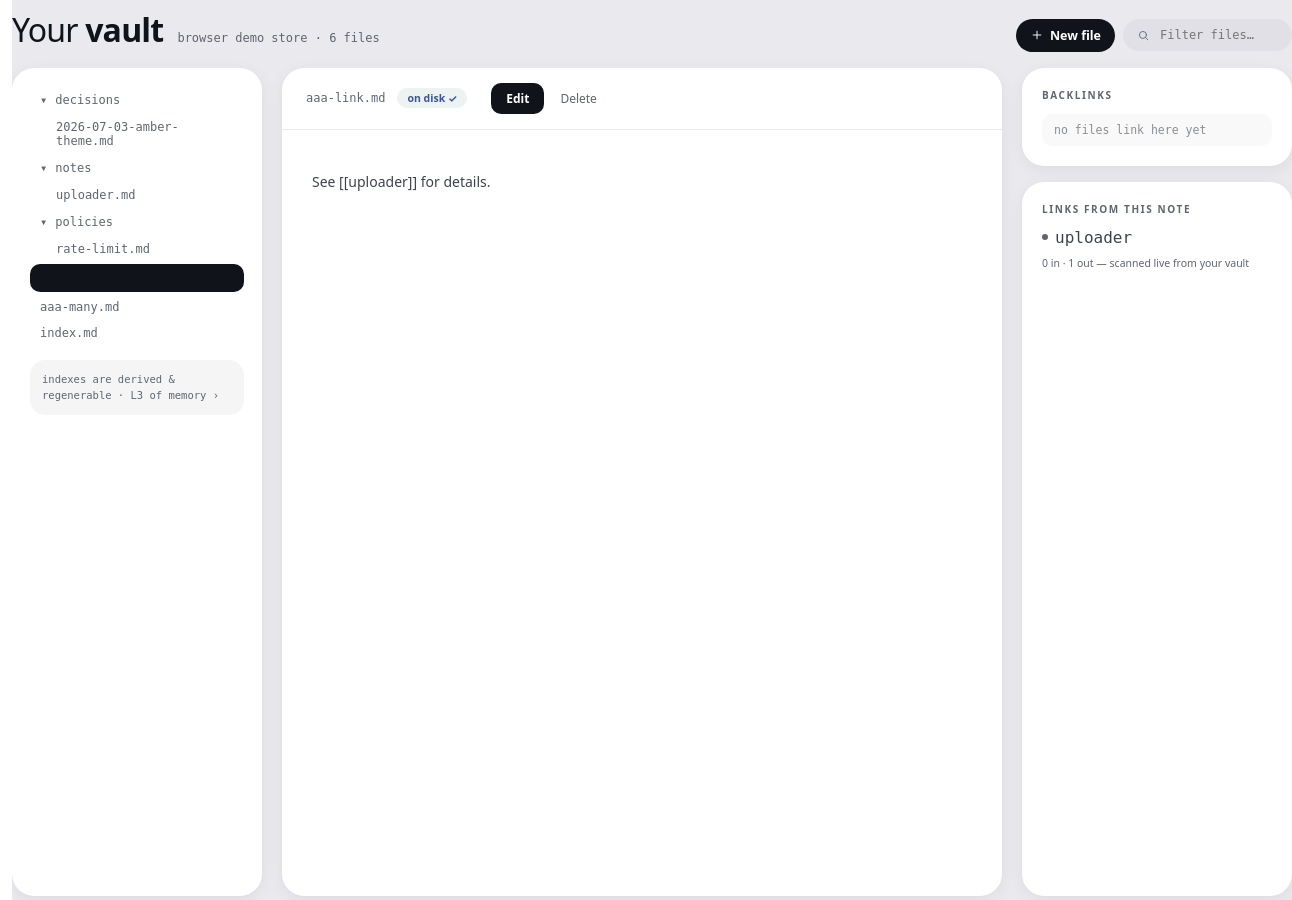
Test case: Vault — outgoing links navigate to the target note › counts EVERY outgoing link in the "N out — scanned live" label, not just the first 6
What coordinates should you click on to do the following:
click the button "aaa-many.md"
I would click on:
 (137, 306)
Its box is x1=30 y1=294 x2=244 y2=320.
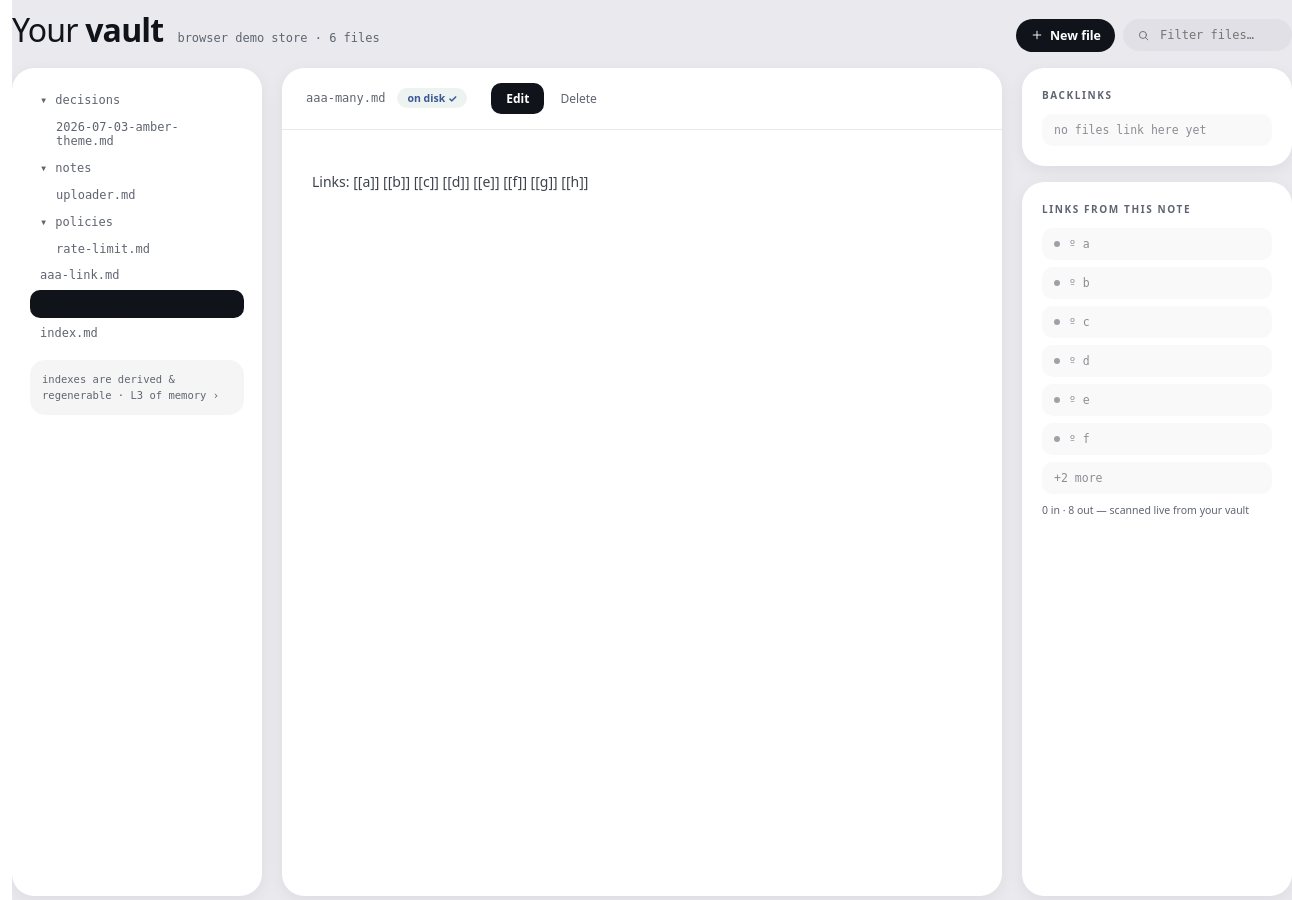
Now the text "0 in · 8 out — scanned live from your vault" is shown, box x1=1042 y1=502 x2=1272 y2=518
Now the text "+2 more" is shown, box x1=1042 y1=462 x2=1272 y2=494
Now the text "º a" is shown, box x1=1042 y1=228 x2=1272 y2=260
